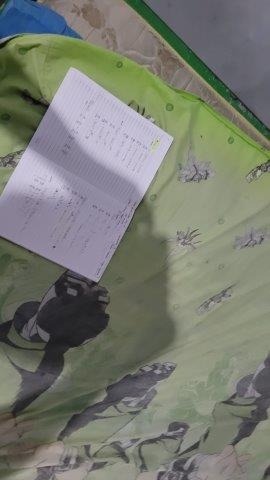kertas: (1, 65, 174, 283)
